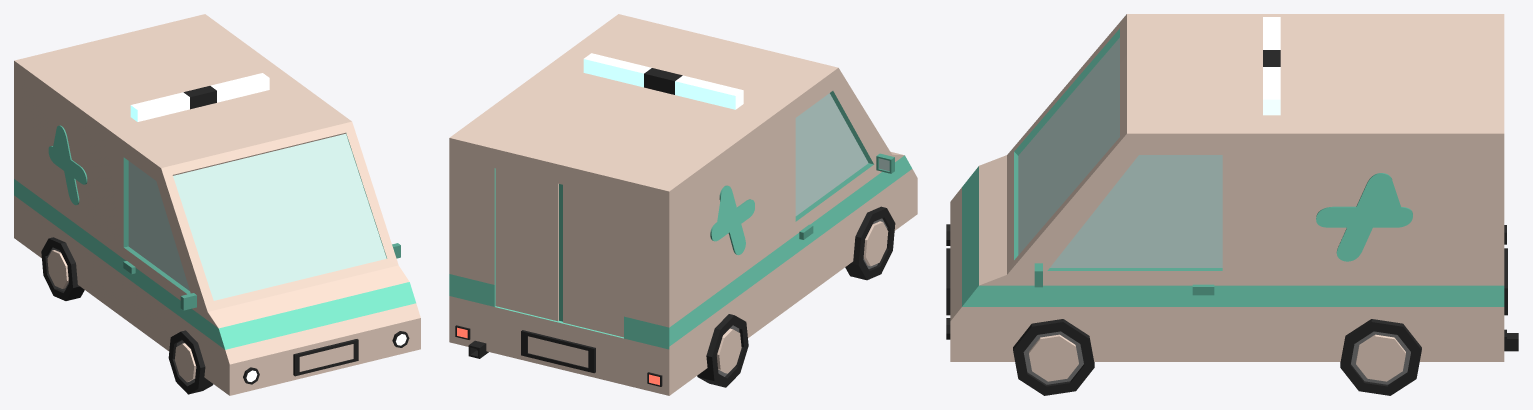
The model's file is ambulance.fbx.
3 renders of one model, left to right at view 1: azimuth 30°, elevation 25°; view 2: azimuth 150°, elevation 25°; view 3: azimuth 270°, elevation 25°, orthographic. The views are drawn at different scales.
Parts seen in each view (by area): view 1: ambulance; view 2: ambulance; view 3: ambulance.
Part boxes in pixels (<box>): ambulance: <box>14,14,420,395</box>; ambulance: <box>449,14,917,395</box>; ambulance: <box>946,14,1518,395</box>.
Size of the model in its own units: 209 by 196 by 370.
